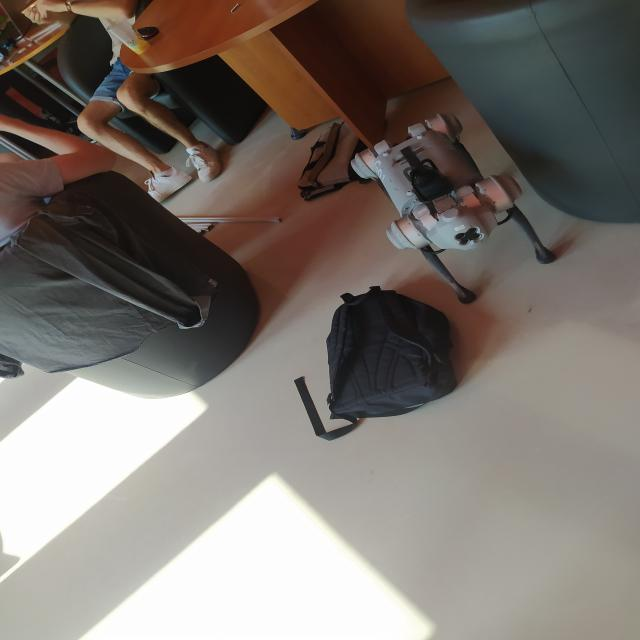unitree-go1-robot: (323, 100, 575, 312)
